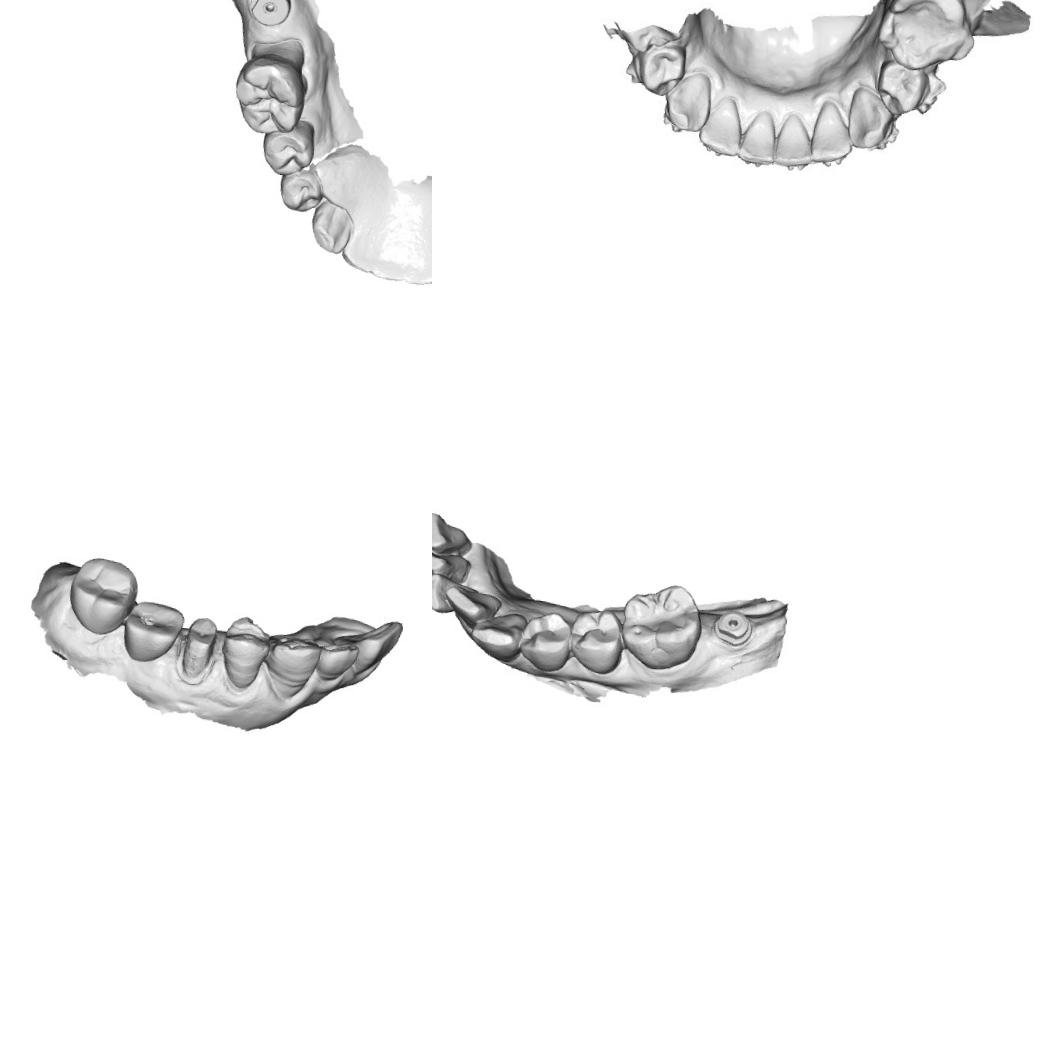canine: (660, 69, 720, 142), (262, 630, 323, 701), (464, 607, 530, 665), (347, 616, 403, 678), (844, 88, 896, 151), (306, 196, 356, 258), (312, 637, 360, 684)
crown: (174, 612, 221, 687)
implant: (709, 604, 756, 650), (243, 0, 294, 30)
incisor: (806, 99, 858, 166), (441, 576, 506, 628), (700, 98, 746, 158), (770, 116, 817, 174), (736, 111, 778, 167), (432, 569, 480, 616), (432, 510, 473, 556), (432, 537, 473, 580)
molar: (614, 578, 706, 674), (877, 0, 979, 75), (228, 52, 310, 139), (66, 554, 140, 638), (120, 598, 186, 664)
premolar: (564, 604, 628, 677), (217, 613, 272, 692), (516, 608, 576, 678), (258, 113, 318, 180), (872, 56, 932, 114), (635, 40, 687, 98), (272, 160, 325, 216)
